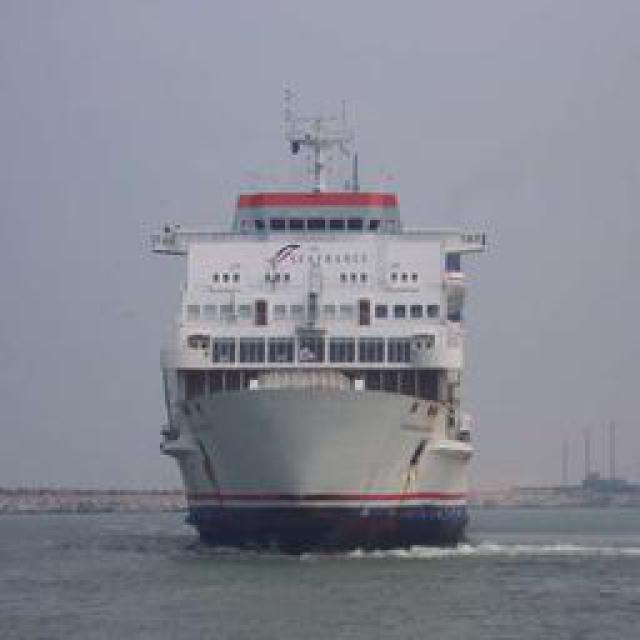Ship: (160, 211, 478, 549)
